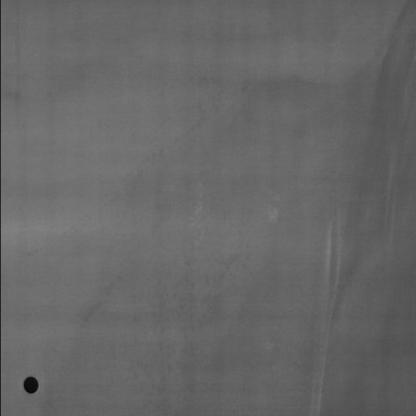punching_hole: (18, 373, 42, 397)
